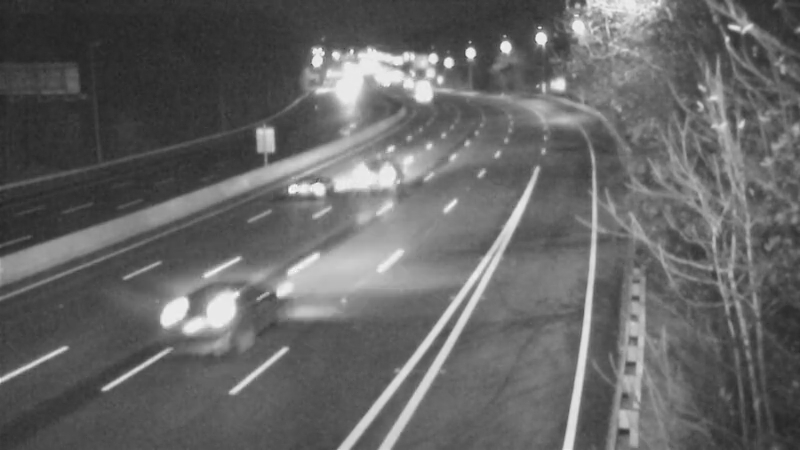vehicle: (146, 268, 256, 378), (342, 140, 422, 220), (264, 144, 344, 224), (396, 69, 446, 119)
